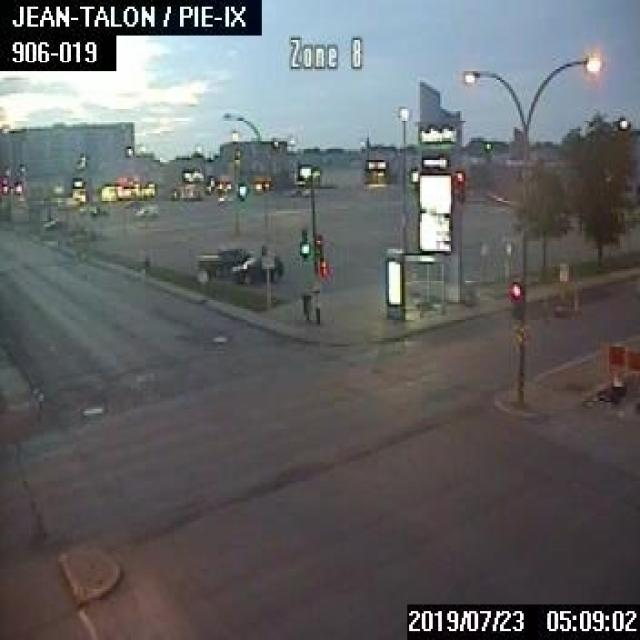construction: (597, 338, 638, 403)
vehicle: (196, 245, 249, 278), (227, 253, 281, 282), (134, 201, 157, 215), (42, 216, 60, 229), (123, 198, 140, 207)
